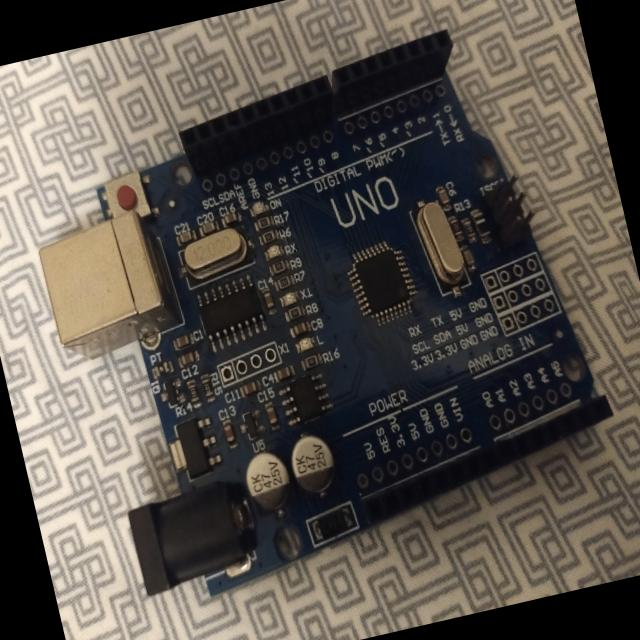arduino: (1, 0, 640, 628)
